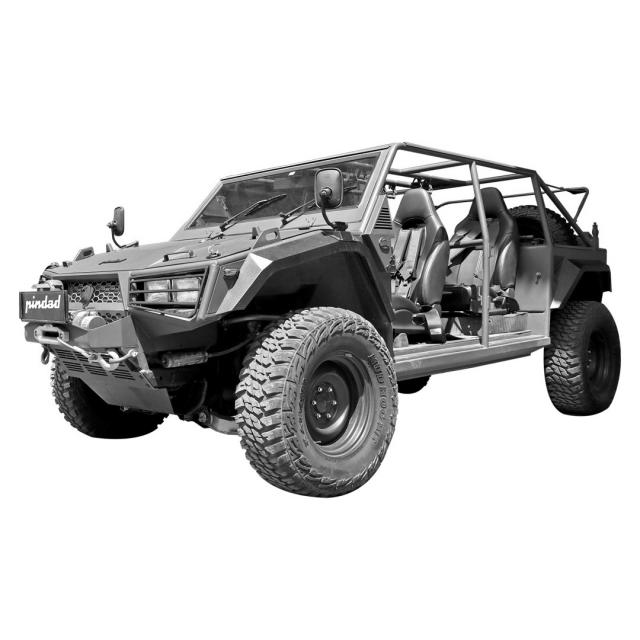Car: (19, 143, 620, 497)
